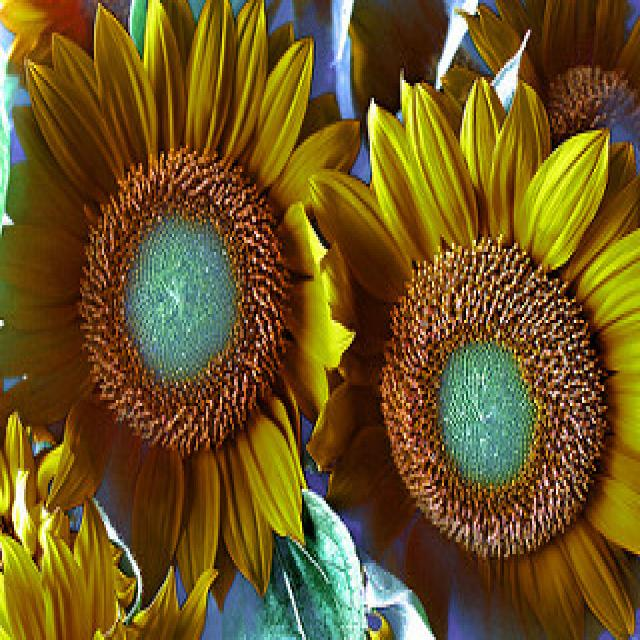sunflower: (8, 0, 378, 610), (300, 74, 640, 640)
